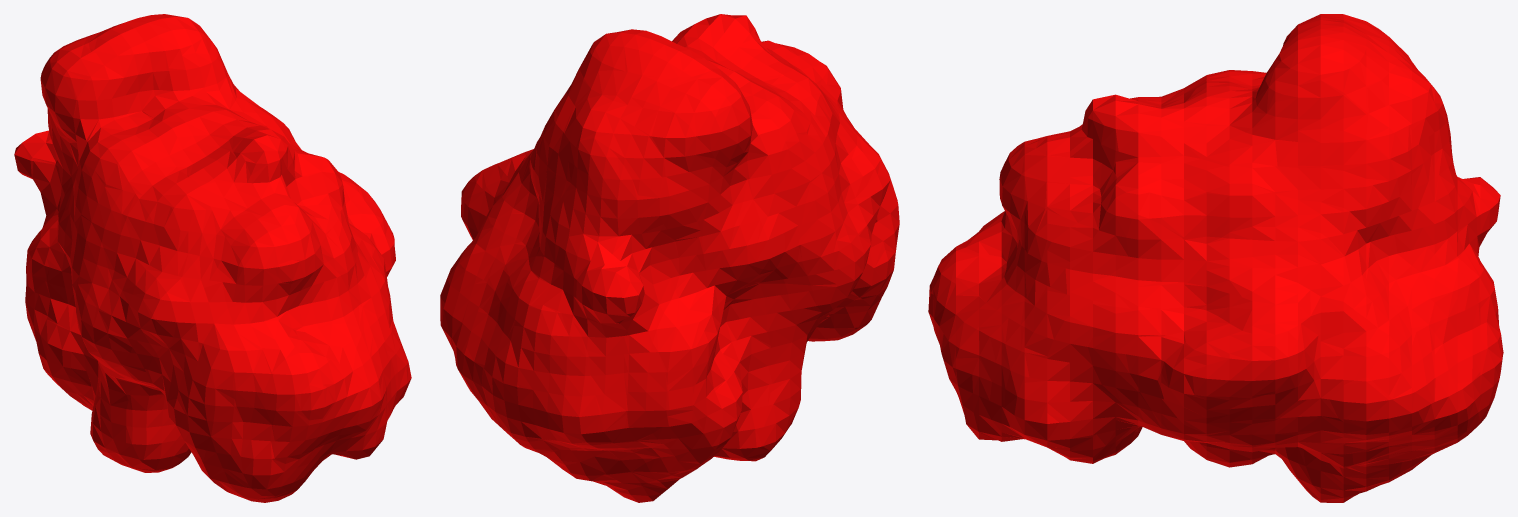
Rendered from uxaC_coarse.dae.
3 views of the same model, side by side, from view 1: azimuth 30°, elevation 25°; view 2: azimuth 150°, elevation 25°; view 3: azimuth 270°, elevation 25° (orthographic). The views are drawn at different scales.
Parts seen in each view (by area): view 1: uxaC; view 2: uxaC; view 3: uxaC.
Boxes of the visible parts, x1,y1,x2,y2 form: uxaC: (14, 14, 411, 502); uxaC: (440, 14, 899, 502); uxaC: (928, 14, 1503, 502).
Size of the model in its own units: 53.51 by 66.27 by 73.73.
